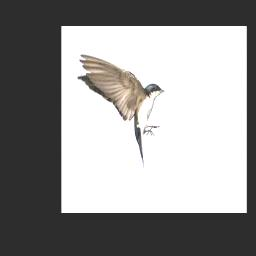Swallow: (77, 54, 164, 170)
